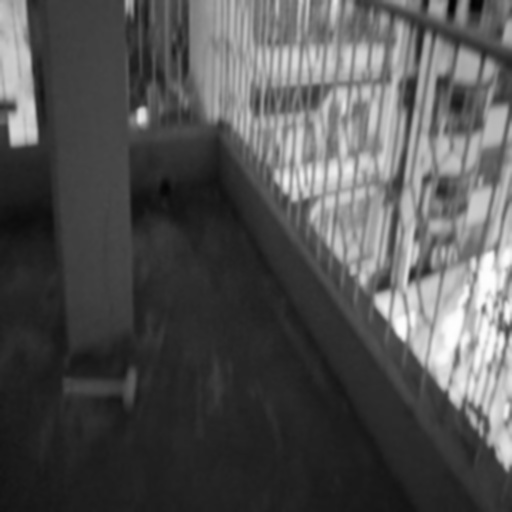mallet: (64, 372, 136, 409)
